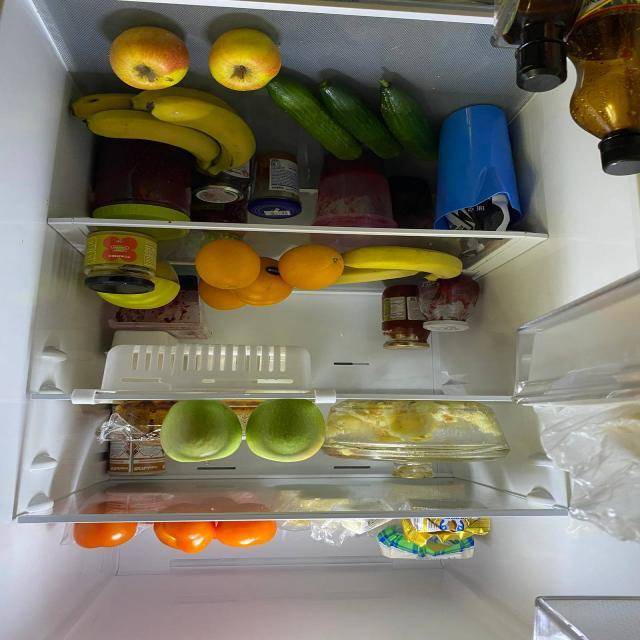Apple: (102, 23, 194, 93), (158, 399, 244, 469), (207, 28, 289, 92), (243, 395, 321, 462)
Banana: (73, 89, 274, 173), (344, 245, 478, 280), (324, 266, 414, 294)
Cucumber: (256, 74, 358, 172), (381, 57, 455, 180), (319, 70, 405, 164)
Orange: (190, 239, 264, 288), (234, 256, 290, 305), (282, 246, 344, 289), (202, 279, 252, 309)
Tomato: (61, 509, 151, 554), (150, 511, 218, 552), (218, 505, 278, 548), (198, 493, 252, 535)
